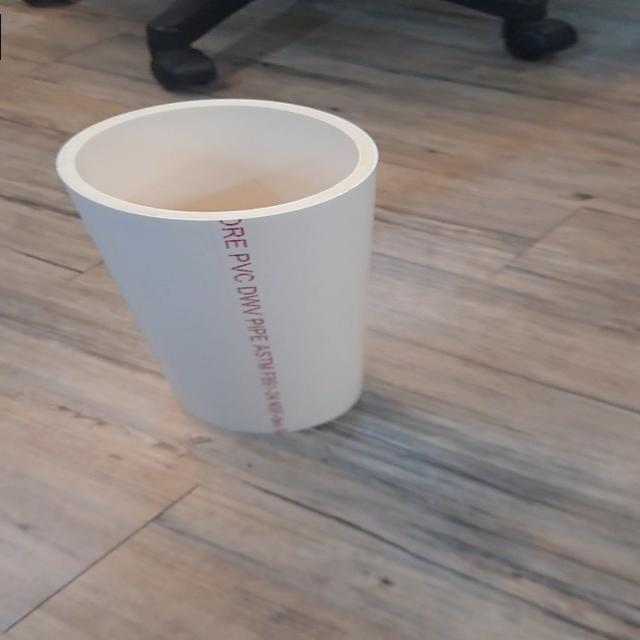CORAL: (39, 97, 442, 434)
